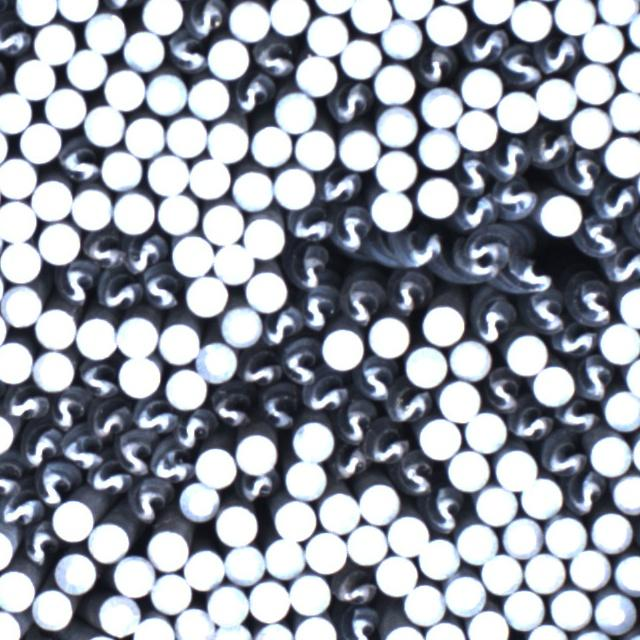tool: (445, 447, 492, 490), (587, 431, 631, 475), (543, 512, 587, 556), (417, 415, 461, 459), (320, 326, 364, 370), (303, 528, 346, 572), (339, 35, 382, 79), (112, 189, 156, 232), (187, 154, 230, 198), (337, 126, 379, 171), (305, 11, 347, 56), (374, 551, 416, 596), (589, 509, 632, 552), (186, 273, 229, 316), (211, 241, 255, 283), (598, 320, 640, 364), (421, 302, 465, 344), (317, 489, 359, 533), (538, 192, 580, 236), (244, 213, 285, 258), (567, 547, 610, 589), (273, 164, 315, 207), (548, 586, 590, 629), (123, 28, 165, 71), (503, 587, 546, 629), (592, 590, 634, 633), (84, 10, 126, 53), (438, 377, 480, 420), (372, 60, 415, 102), (505, 331, 547, 374), (520, 475, 562, 518), (196, 340, 238, 382), (33, 20, 75, 62), (118, 354, 160, 396), (116, 314, 158, 356), (171, 232, 213, 274), (51, 499, 93, 541), (216, 503, 258, 545), (206, 581, 248, 623), (207, 35, 248, 78), (146, 71, 187, 114), (145, 152, 186, 195), (70, 186, 111, 229), (12, 56, 55, 97), (231, 166, 272, 209), (460, 66, 503, 107), (201, 201, 244, 242), (569, 105, 610, 148), (249, 577, 290, 620), (377, 104, 418, 147), (534, 75, 575, 118), (86, 521, 130, 561), (165, 114, 206, 156), (100, 147, 142, 188), (424, 3, 465, 45), (294, 127, 335, 169), (188, 75, 229, 117), (103, 67, 144, 109), (369, 189, 411, 230), (374, 148, 415, 190), (164, 368, 206, 409), (497, 90, 538, 132), (572, 60, 613, 102), (509, 0, 551, 41), (159, 320, 200, 362), (456, 520, 497, 562), (420, 86, 461, 128), (494, 446, 536, 487), (207, 121, 249, 162), (146, 527, 188, 568), (284, 457, 325, 499), (227, 0, 270, 40), (124, 112, 164, 155), (404, 582, 444, 625), (251, 124, 291, 167), (18, 122, 61, 162), (464, 411, 507, 451), (2, 282, 41, 326), (524, 550, 565, 591), (274, 90, 315, 131), (418, 128, 459, 169), (404, 344, 445, 385), (289, 573, 330, 614), (450, 337, 491, 378), (236, 431, 277, 472), (457, 109, 497, 151), (295, 53, 335, 95), (346, 522, 386, 564), (443, 574, 483, 616), (76, 316, 116, 358), (45, 85, 85, 127), (184, 548, 224, 590), (157, 191, 197, 233), (151, 571, 191, 613), (367, 316, 409, 356), (581, 22, 624, 61), (97, 593, 137, 634), (83, 105, 123, 146), (382, 18, 422, 59), (220, 305, 261, 345), (501, 515, 541, 556), (67, 48, 107, 89), (33, 350, 74, 390), (476, 484, 517, 524), (263, 537, 303, 578), (40, 221, 81, 261), (480, 553, 521, 593), (193, 445, 233, 486), (224, 543, 264, 584), (112, 556, 153, 596), (56, 553, 97, 593), (419, 539, 460, 579), (245, 271, 285, 311), (34, 307, 74, 347), (416, 178, 456, 218), (33, 588, 73, 628), (532, 365, 573, 404), (32, 178, 71, 219), (179, 480, 218, 521), (274, 498, 315, 537), (359, 482, 398, 523), (389, 514, 428, 554), (0, 241, 38, 281), (0, 155, 36, 197), (0, 567, 35, 610), (603, 389, 640, 429), (293, 421, 332, 458), (605, 134, 640, 175), (141, 0, 183, 33), (270, 0, 309, 34), (554, 0, 594, 33), (466, 608, 507, 640), (0, 89, 31, 131), (0, 340, 31, 382), (0, 202, 34, 240), (609, 90, 640, 131), (610, 471, 640, 513), (175, 607, 213, 640), (351, 0, 391, 31), (132, 613, 175, 640), (614, 552, 640, 595), (615, 48, 640, 90), (15, 0, 56, 24), (294, 616, 335, 640), (596, 0, 636, 24), (424, 617, 465, 640), (617, 285, 640, 326), (472, 0, 513, 22), (56, 0, 98, 21), (253, 620, 294, 640), (211, 621, 252, 640), (393, 0, 434, 19), (525, 622, 567, 640)
tool_b: (337, 269, 385, 323), (568, 279, 618, 327), (57, 136, 104, 183), (381, 384, 435, 424), (208, 382, 251, 430), (492, 180, 541, 222), (301, 283, 340, 335), (559, 150, 602, 196), (151, 445, 198, 487), (249, 35, 296, 77), (383, 233, 441, 267), (328, 81, 372, 125), (163, 30, 208, 73), (282, 332, 319, 384), (35, 463, 78, 507), (257, 382, 300, 426), (388, 272, 430, 317), (575, 214, 621, 255), (130, 477, 169, 525), (562, 475, 606, 517), (63, 427, 104, 472), (300, 373, 346, 413), (490, 138, 530, 184), (86, 458, 133, 497), (318, 169, 366, 207), (286, 203, 335, 240), (18, 427, 61, 469), (115, 432, 155, 477), (540, 440, 588, 477), (137, 268, 180, 309), (424, 489, 464, 533), (483, 369, 523, 413), (576, 356, 616, 400), (392, 453, 430, 499), (259, 304, 300, 346), (289, 247, 332, 287), (552, 400, 602, 434), (237, 350, 279, 390), (56, 261, 94, 305), (183, 0, 227, 38), (513, 254, 554, 294), (17, 524, 56, 566), (352, 360, 394, 399), (500, 49, 542, 88), (473, 300, 511, 343), (593, 182, 638, 218), (337, 209, 372, 255), (551, 324, 597, 359), (76, 357, 116, 397), (418, 44, 458, 84), (526, 291, 565, 332), (334, 569, 376, 607), (443, 254, 498, 283), (82, 233, 125, 270), (96, 271, 139, 308), (453, 153, 490, 196), (5, 386, 50, 421), (507, 409, 553, 443), (538, 34, 578, 73), (339, 402, 373, 447), (127, 236, 166, 275), (133, 397, 173, 435), (235, 72, 275, 110), (463, 29, 505, 64), (0, 490, 42, 524), (92, 401, 129, 439), (48, 390, 84, 429), (365, 428, 407, 461), (454, 194, 497, 226), (534, 132, 571, 169), (602, 248, 640, 283), (176, 410, 209, 450), (240, 470, 282, 501), (464, 232, 510, 259), (0, 21, 33, 58), (341, 609, 378, 640), (334, 444, 366, 477), (0, 457, 25, 496)
